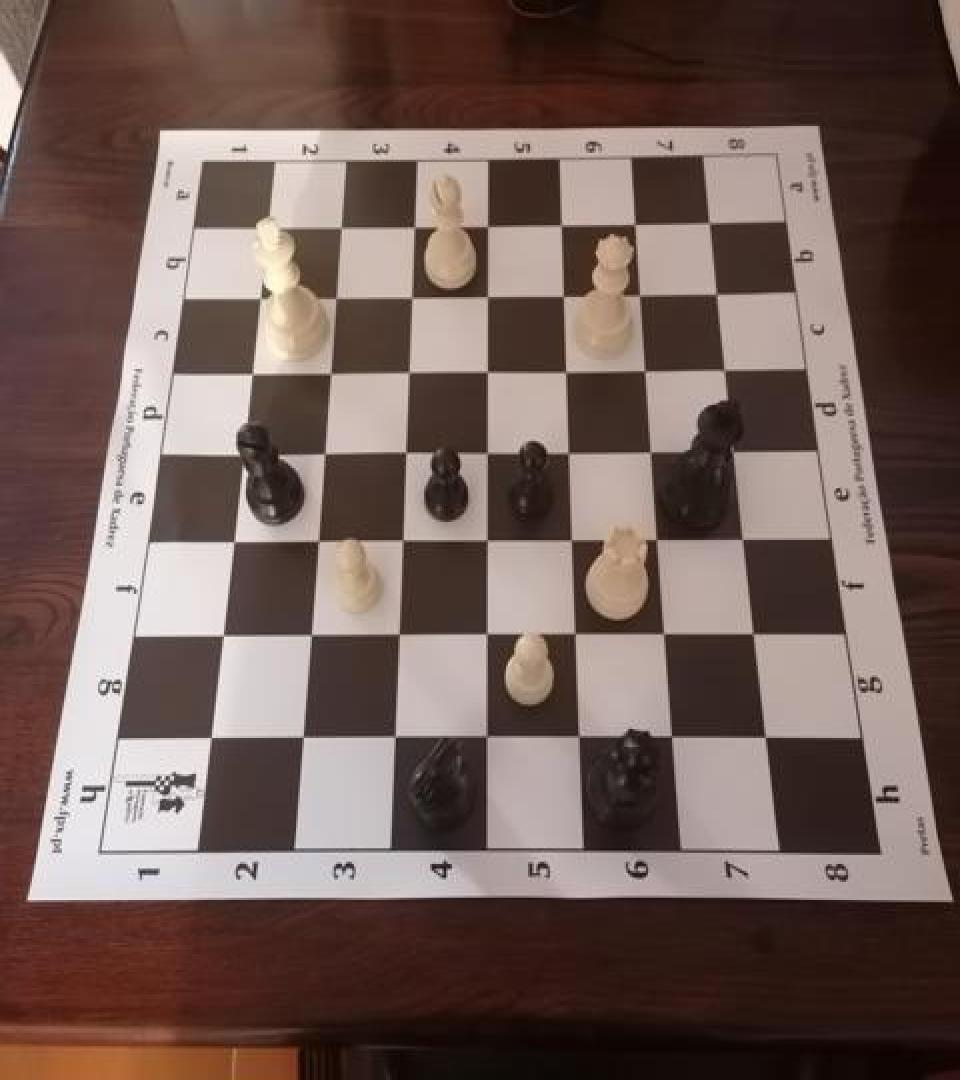xcorner: (740, 617, 772, 654), (650, 617, 682, 654), (560, 617, 592, 654), (471, 617, 503, 654), (693, 205, 725, 241), (619, 206, 651, 242), (545, 206, 577, 242), (471, 207, 503, 243), (397, 208, 429, 244), (323, 209, 355, 245), (250, 210, 282, 246), (701, 276, 733, 312), (624, 276, 656, 312), (547, 277, 579, 313), (471, 278, 503, 314), (394, 279, 426, 315), (318, 279, 350, 315), (243, 280, 275, 316), (710, 351, 742, 387), (630, 352, 662, 388), (550, 352, 582, 388), (471, 353, 503, 389), (391, 354, 423, 390), (313, 356, 345, 392), (234, 356, 266, 392), (719, 433, 751, 469), (636, 433, 668, 469), (553, 434, 585, 470), (471, 436, 503, 472), (388, 436, 420, 472), (307, 436, 339, 472), (225, 436, 257, 472), (729, 522, 761, 558), (643, 522, 675, 558), (556, 522, 588, 558), (471, 523, 503, 559), (385, 523, 417, 559), (300, 524, 332, 560), (215, 524, 247, 560), (382, 619, 414, 655), (293, 619, 325, 655), (205, 619, 237, 655), (752, 721, 784, 757), (658, 721, 690, 757), (564, 721, 596, 757), (471, 721, 503, 757), (378, 721, 410, 757), (285, 722, 317, 758), (194, 722, 226, 758)
